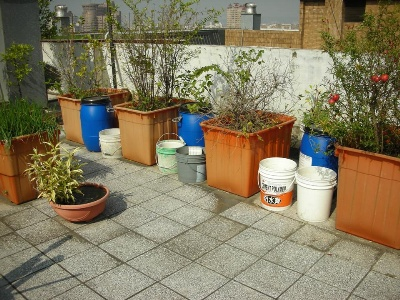bucket: (296, 165, 337, 225), (257, 156, 299, 213), (175, 97, 215, 148), (297, 125, 339, 173), (79, 104, 112, 152), (155, 136, 187, 175), (176, 145, 207, 184), (97, 125, 124, 158)
plate: (79, 93, 112, 105)
